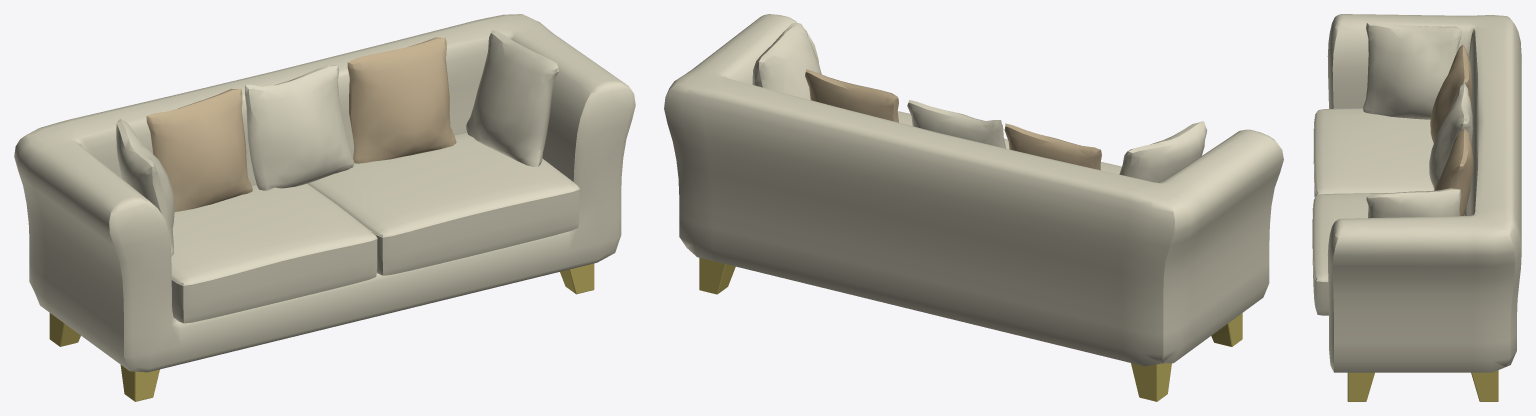
Rendered from sh_scopia_clear_sofa.glb.
3 renders of one model, left to right at view 1: azimuth 30°, elevation 25°; view 2: azimuth 150°, elevation 25°; view 3: azimuth 270°, elevation 25°, orthographic. The views are drawn at different scales.
Bounding box in the file's own units: 1.94 × 0.8 × 0.759.
